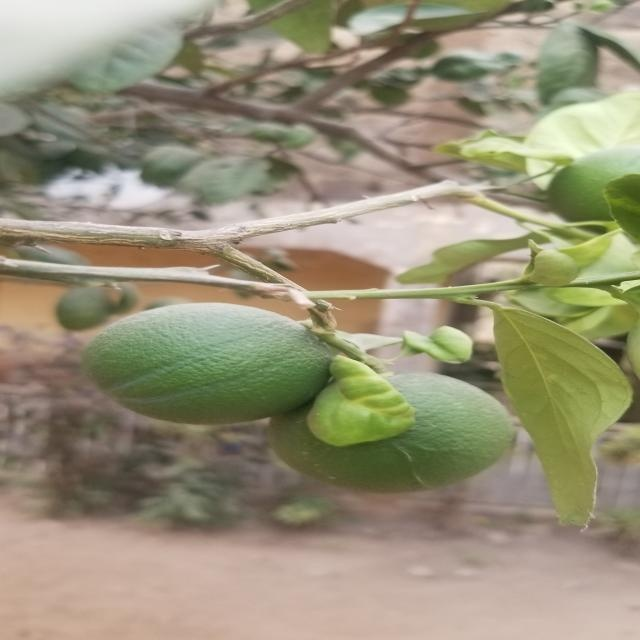agrume: (68, 299, 365, 430), (277, 368, 539, 502)
